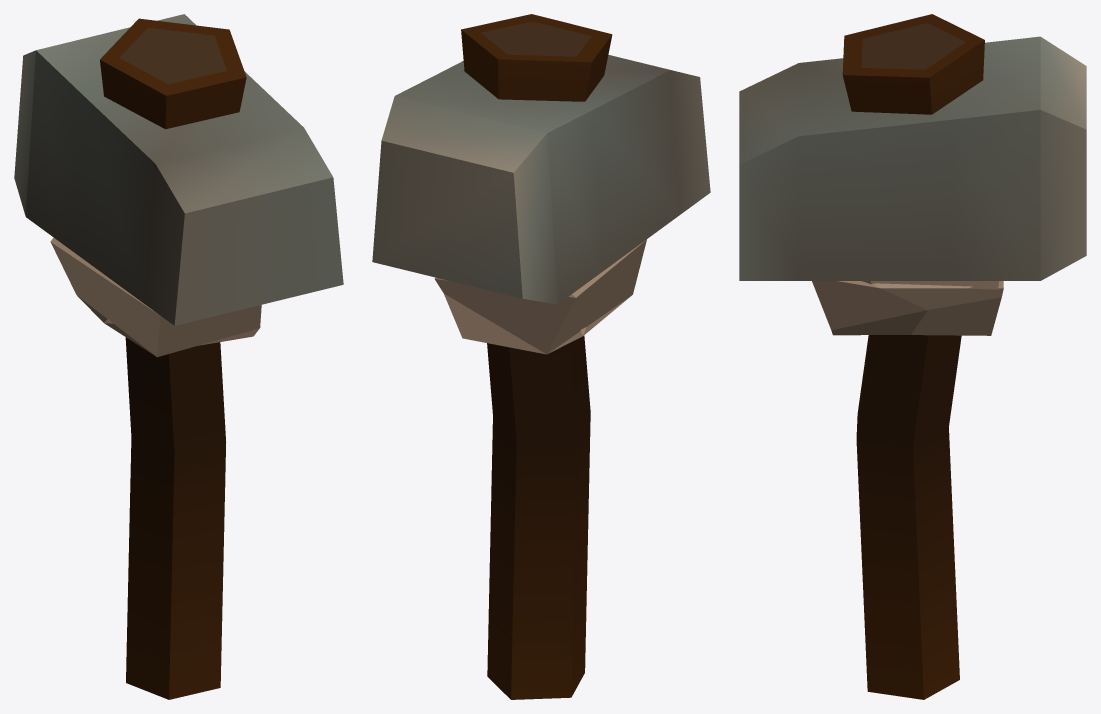
File: Hammer_Stone.fbx
The picture shows the model from 3 angles, left to right: view 1: azimuth 30°, elevation 25°; view 2: azimuth 150°, elevation 25°; view 3: azimuth 270°, elevation 25°; orthographic projection. The views are drawn at different scales.
Visible parts, largest first — view 1: Hammer_Stone; view 2: Hammer_Stone; view 3: Hammer_Stone.
Boxes of the visible parts, x1=… form: Hammer_Stone: x1=14, y1=14, x2=343, y2=699; Hammer_Stone: x1=372, y1=14, x2=710, y2=699; Hammer_Stone: x1=739, y1=14, x2=1086, y2=699.
Size of the model in its own units: 25.83 by 92.35 by 45.41.
